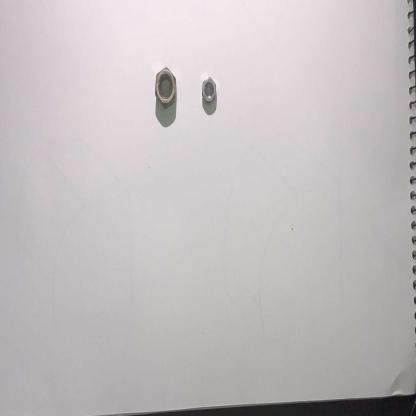NUTS: (197, 66, 221, 115), (152, 61, 176, 107)
